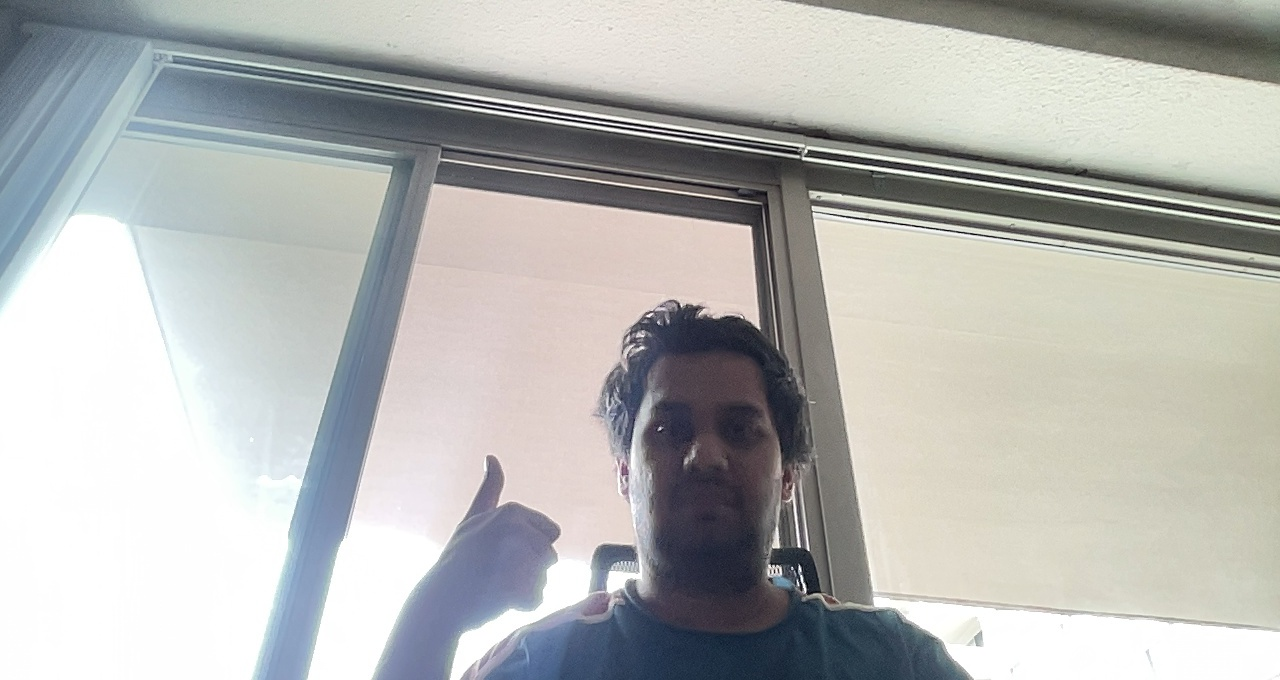thumbsup: (439, 447, 569, 626)
